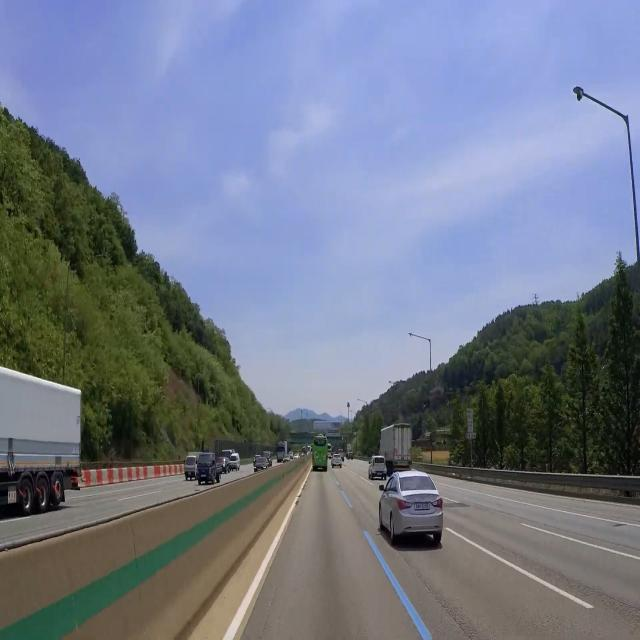car: (413, 499, 431, 514)
